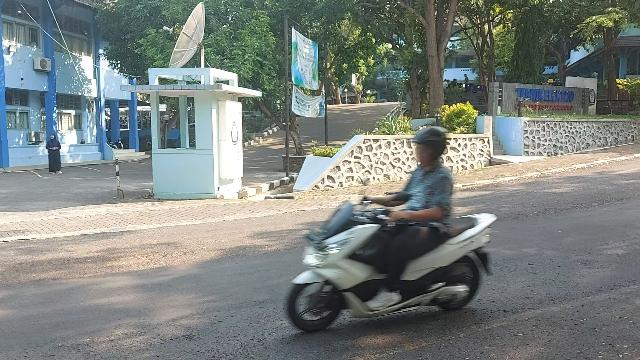helm: (413, 128, 447, 165)
motor: (288, 180, 499, 335)
